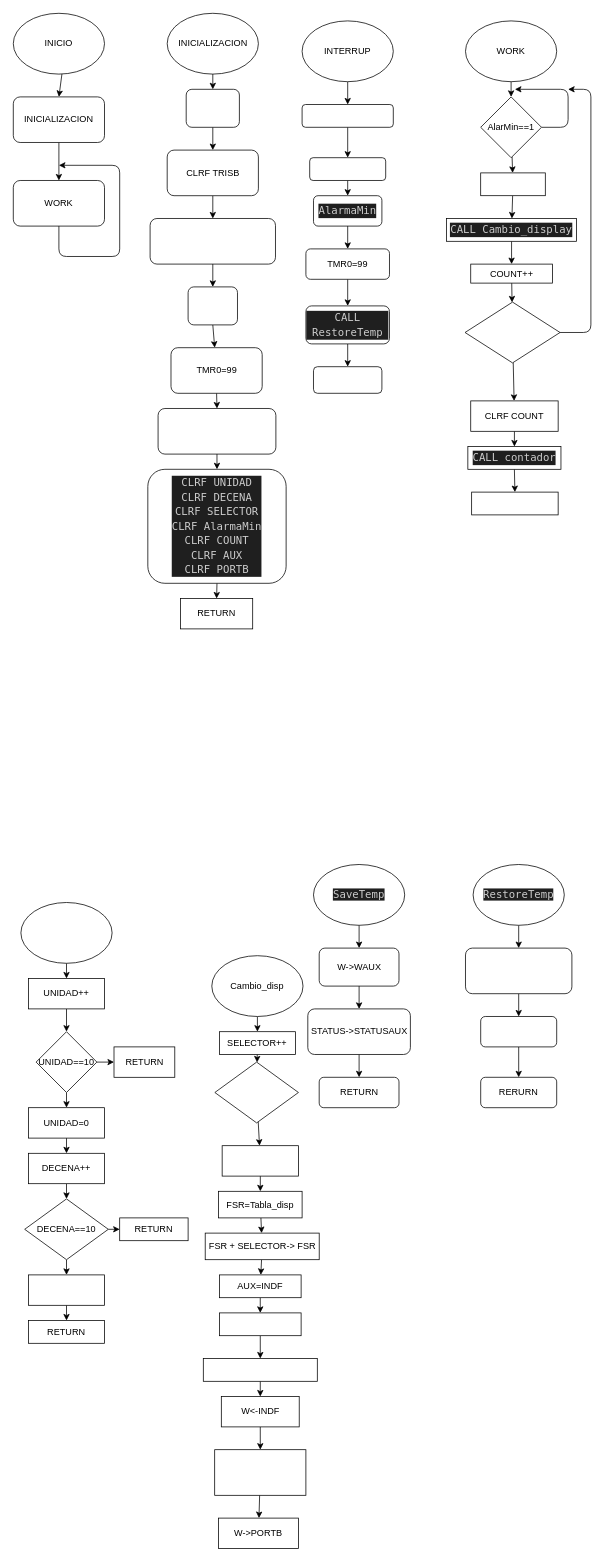
This 610x1562 diagram has some shape labels left out. The shapes that lost their labels are listed below. From the top down, each one's centre as x and y in pixels, then its label:
point 212,108: B1
point 347,115: CALL SaveTemp
point 347,168: INTCON=0
point 512,184: AlarMin=0
point 212,241: OPTION_REG=10000100
point 212,305: B0
point 512,332: COUNT==200
point 347,379: RETFIE
point 216,431: INTCON= 10100000
point 514,503: RETRURN
point 66,932: Contador
point 518,970: STATUSAUX->STATUS
point 518,1031: WAUX->W
point 256,1092: SELECTOR==2
point 260,1160: SELECTOR=0
point 66,1289: DECENA=0
point 260,1324: FSR=Tabla_hab
point 260,1369: FSR + SELECTOR= FSR
point 260,1472: MASCARA CON AUX Y W
